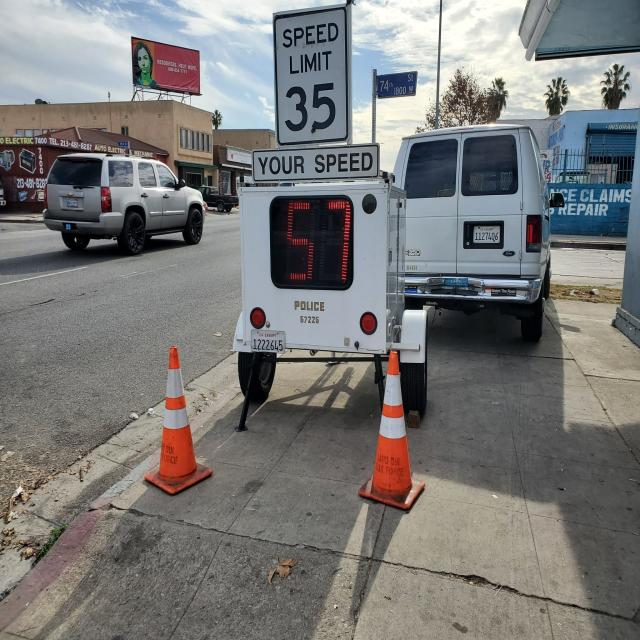speedLimit35: (270, 3, 352, 148)
